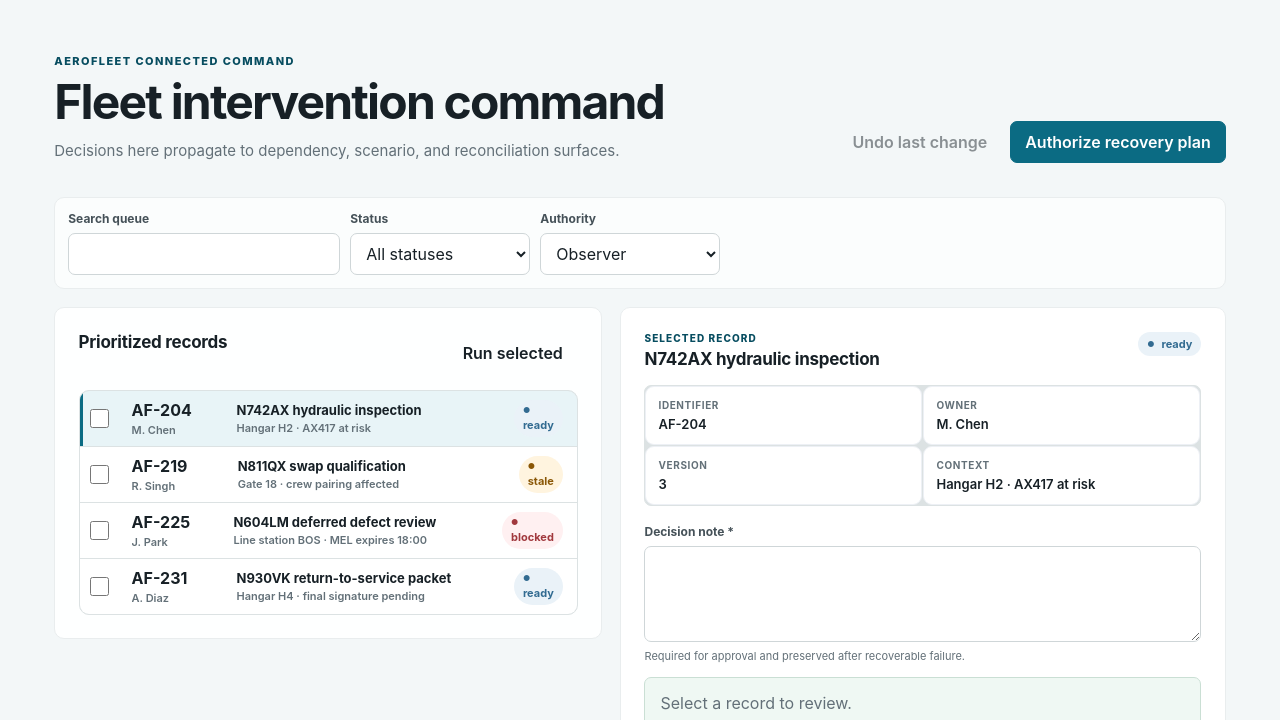
Test: Fleet intervention command › filters the queue and offers recovery from an empty result
Step 1. Type "not-present" into the field labelled "Search queue" → (204, 254), box [68,234,340,276]
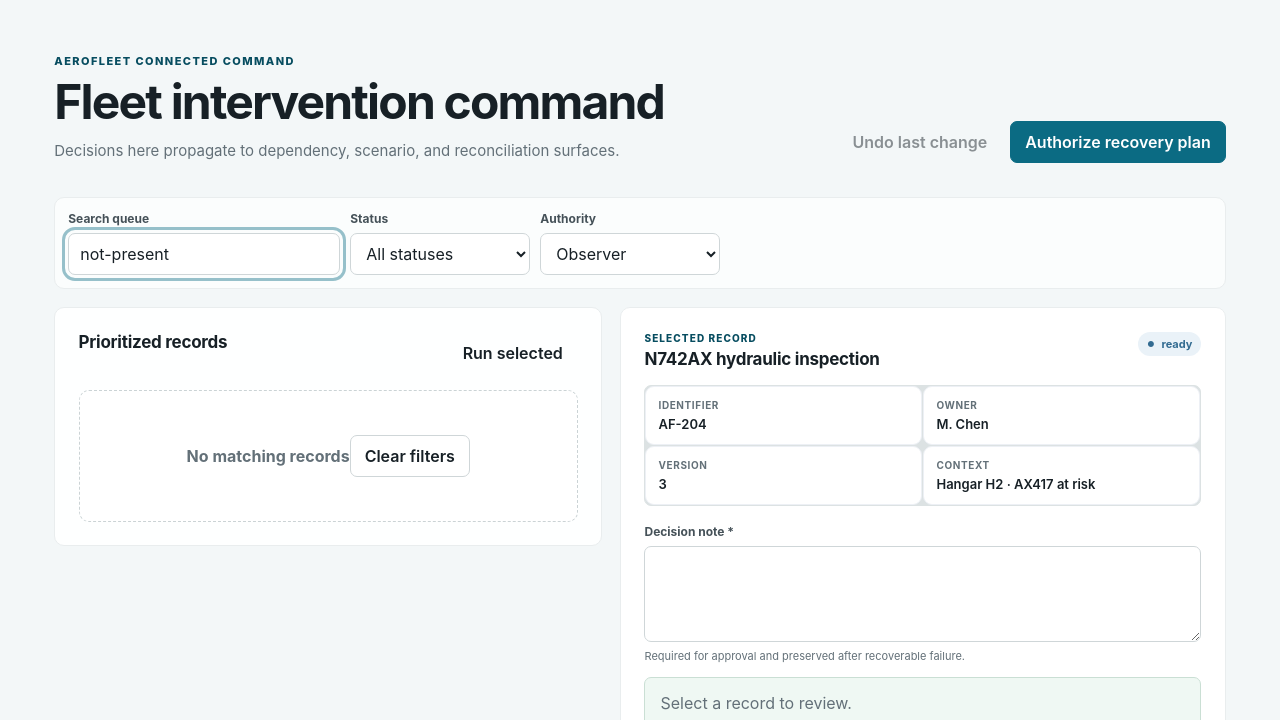
Now the text "No matching records" is shown, box [187,446,350,466]
Step 2. Click the button "Clear filters" → (410, 456), box [350,435,470,477]
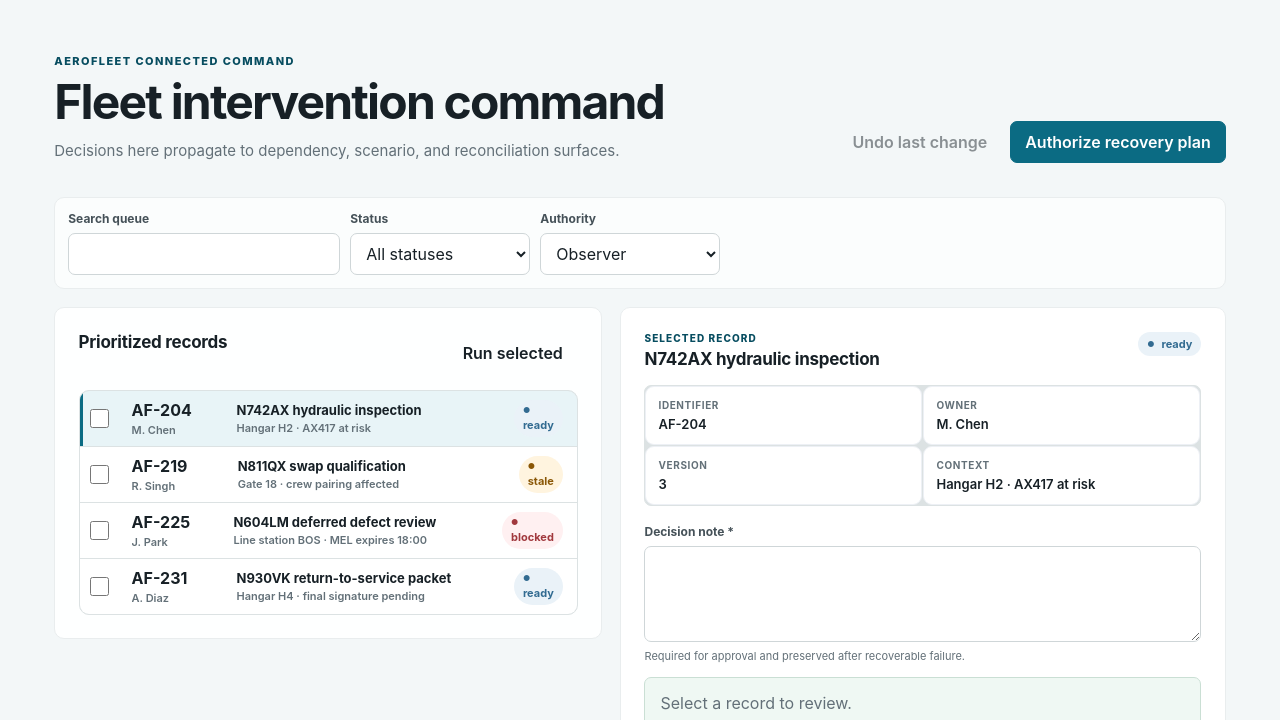
Now the text "N742AX hydraulic inspection" is shown 2 times, box [236,402,422,418]; [644,349,880,369]
